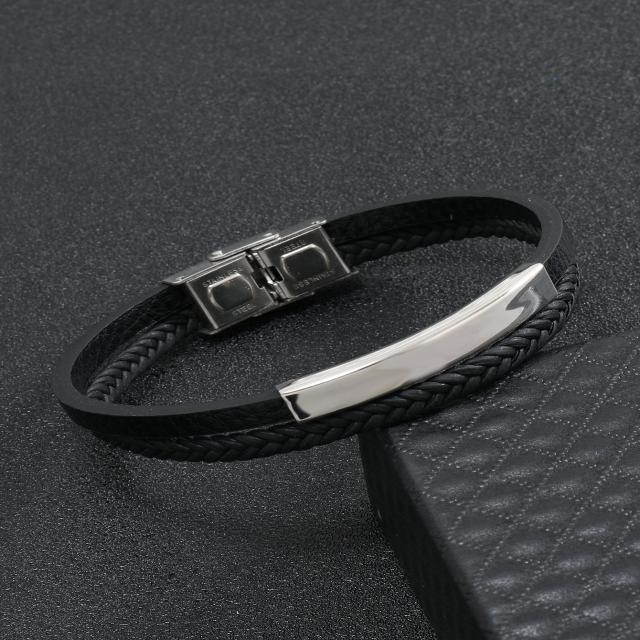bracelet: (40, 130, 640, 493)
